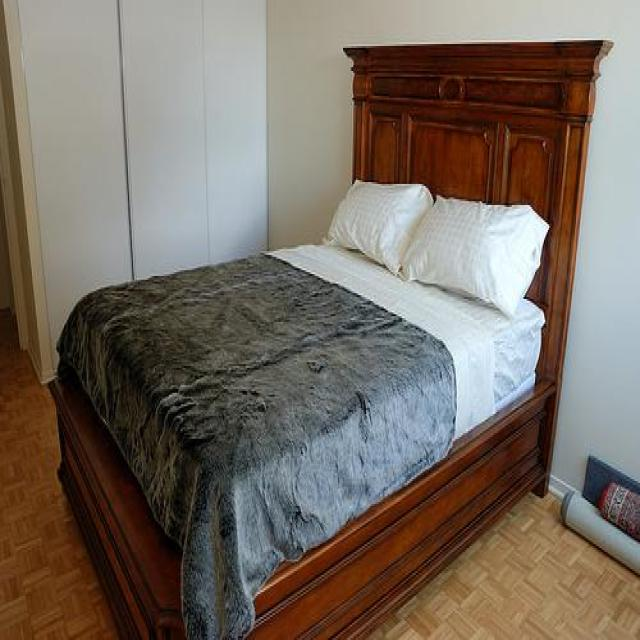bed: (53, 36, 615, 640)
